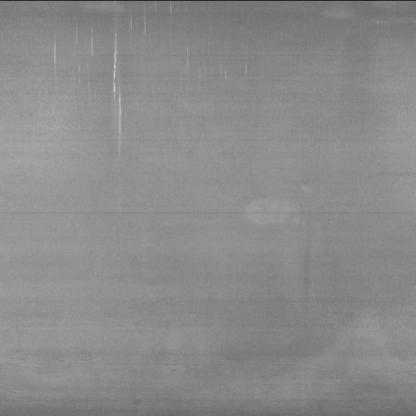waist_folding: (0, 0, 314, 179)
